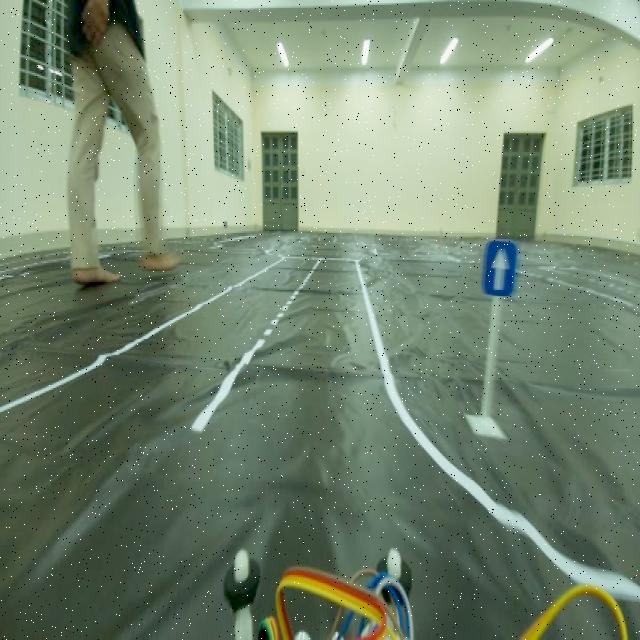onewayroad: (478, 233, 516, 306)
